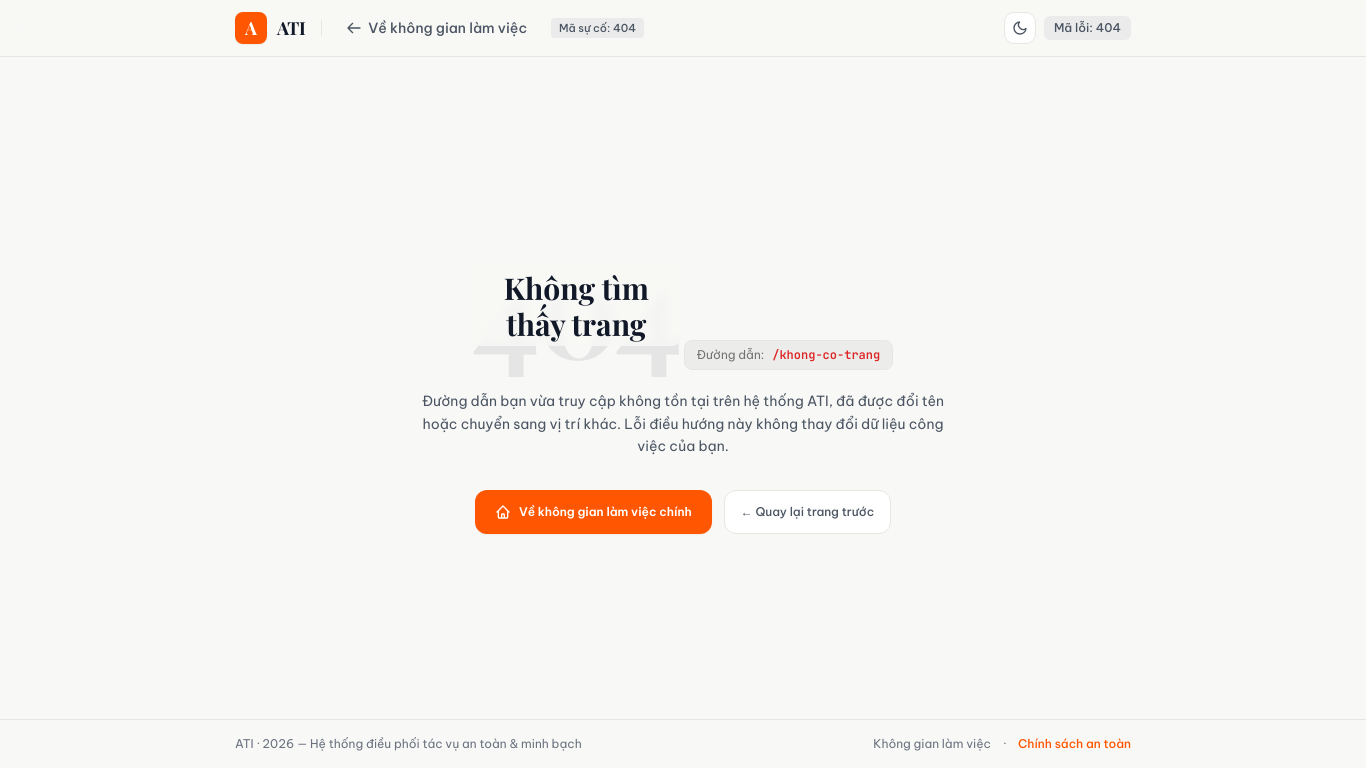
Test: FE-04b: a signed-in unknown path shows the 404 without the app shell; Back returns to it with its scope
This screenshot has width=1366, height=768.
Click the link "Về không gian làm việc chính".
click(593, 512)  # box [475,490,712,534]
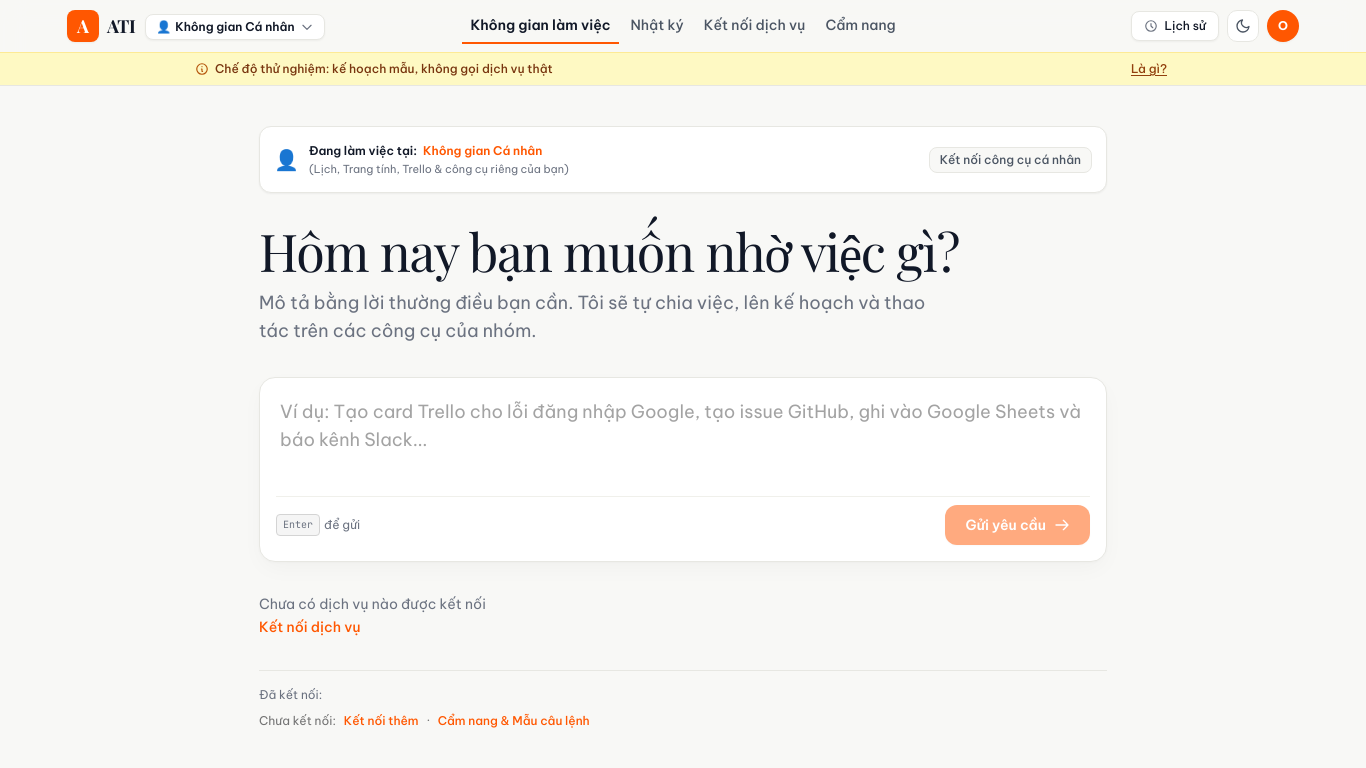
Check: the text box named "Mô tả công việc bạn muốn thực hiện" is shown, box [276,394,1090,486]
